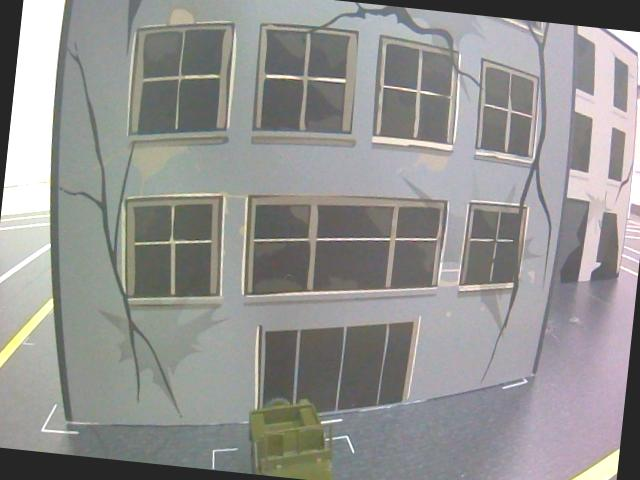Car: (239, 388, 344, 480)
